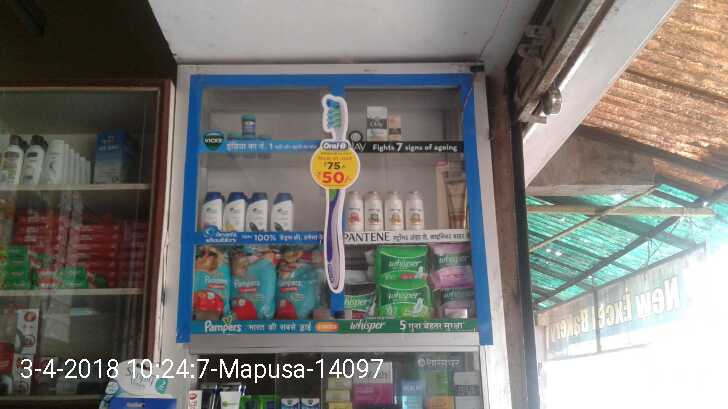vicks: (229, 115, 269, 143)
